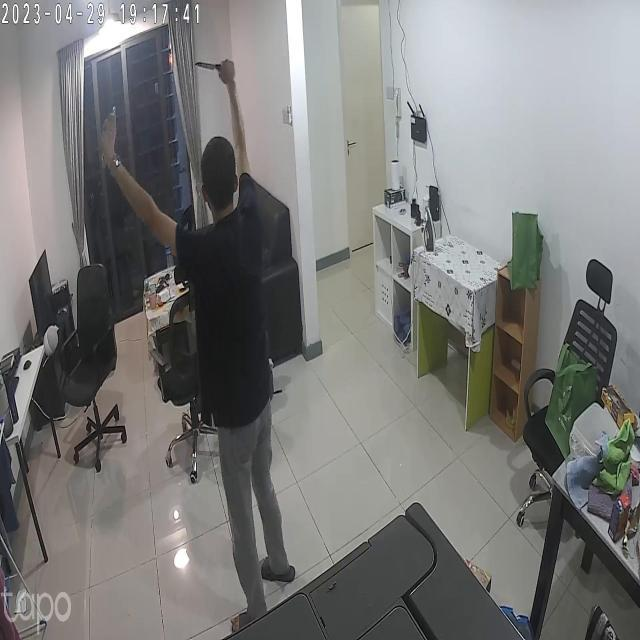Knife: (191, 54, 246, 94)
